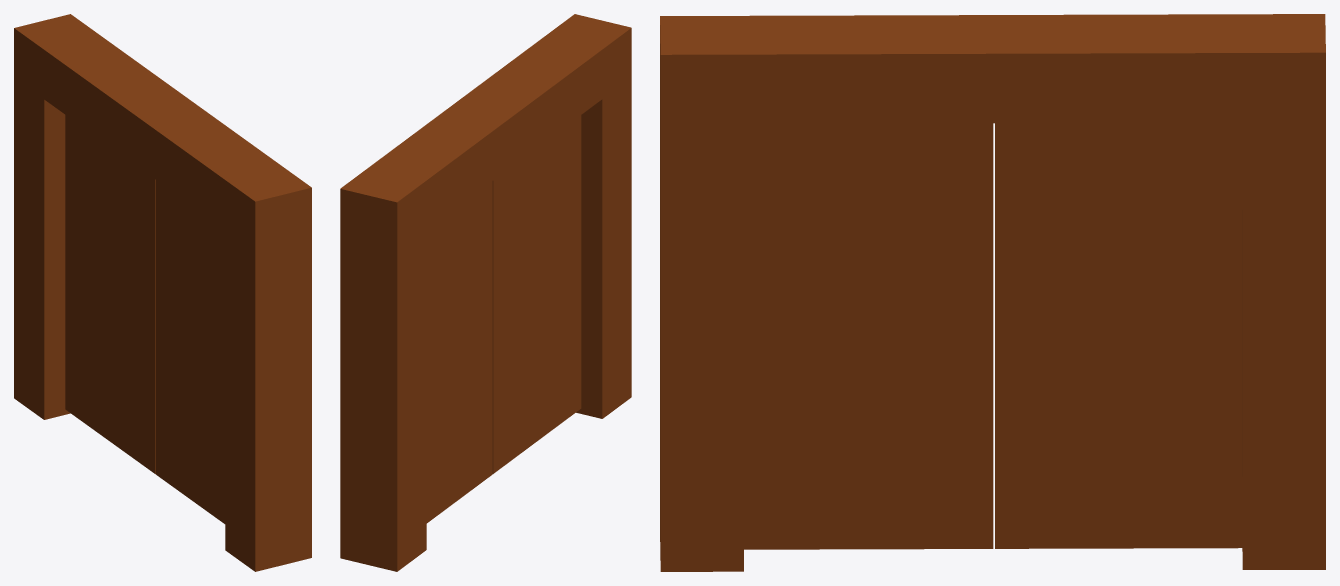
Rendered from door.fbx.
3 renders of one model, left to right at view 1: azimuth 30°, elevation 25°; view 2: azimuth 150°, elevation 25°; view 3: azimuth 270°, elevation 25°, orthographic. The views are drawn at different scales.
Parts seen in each view (by area): view 1: slidedoorframe, slidedoor1, slidedoor2; view 2: slidedoorframe, slidedoor2, slidedoor1; view 3: slidedoorframe, slidedoor2, slidedoor1.
Part boxes in pixels (x1,y1,x2,y2): slidedoorframe: (14,14,311,571); slidedoor1: (65,115,155,473); slidedoor2: (155,180,225,523); slidedoorframe: (340,14,631,571); slidedoor2: (492,115,581,473); slidedoor1: (426,181,492,523); slidedoorframe: (660,14,1325,571); slidedoor2: (744,123,993,549); slidedoor1: (995,122,1242,548).
Size of the model in its own units: 24.9 by 147 by 171.
